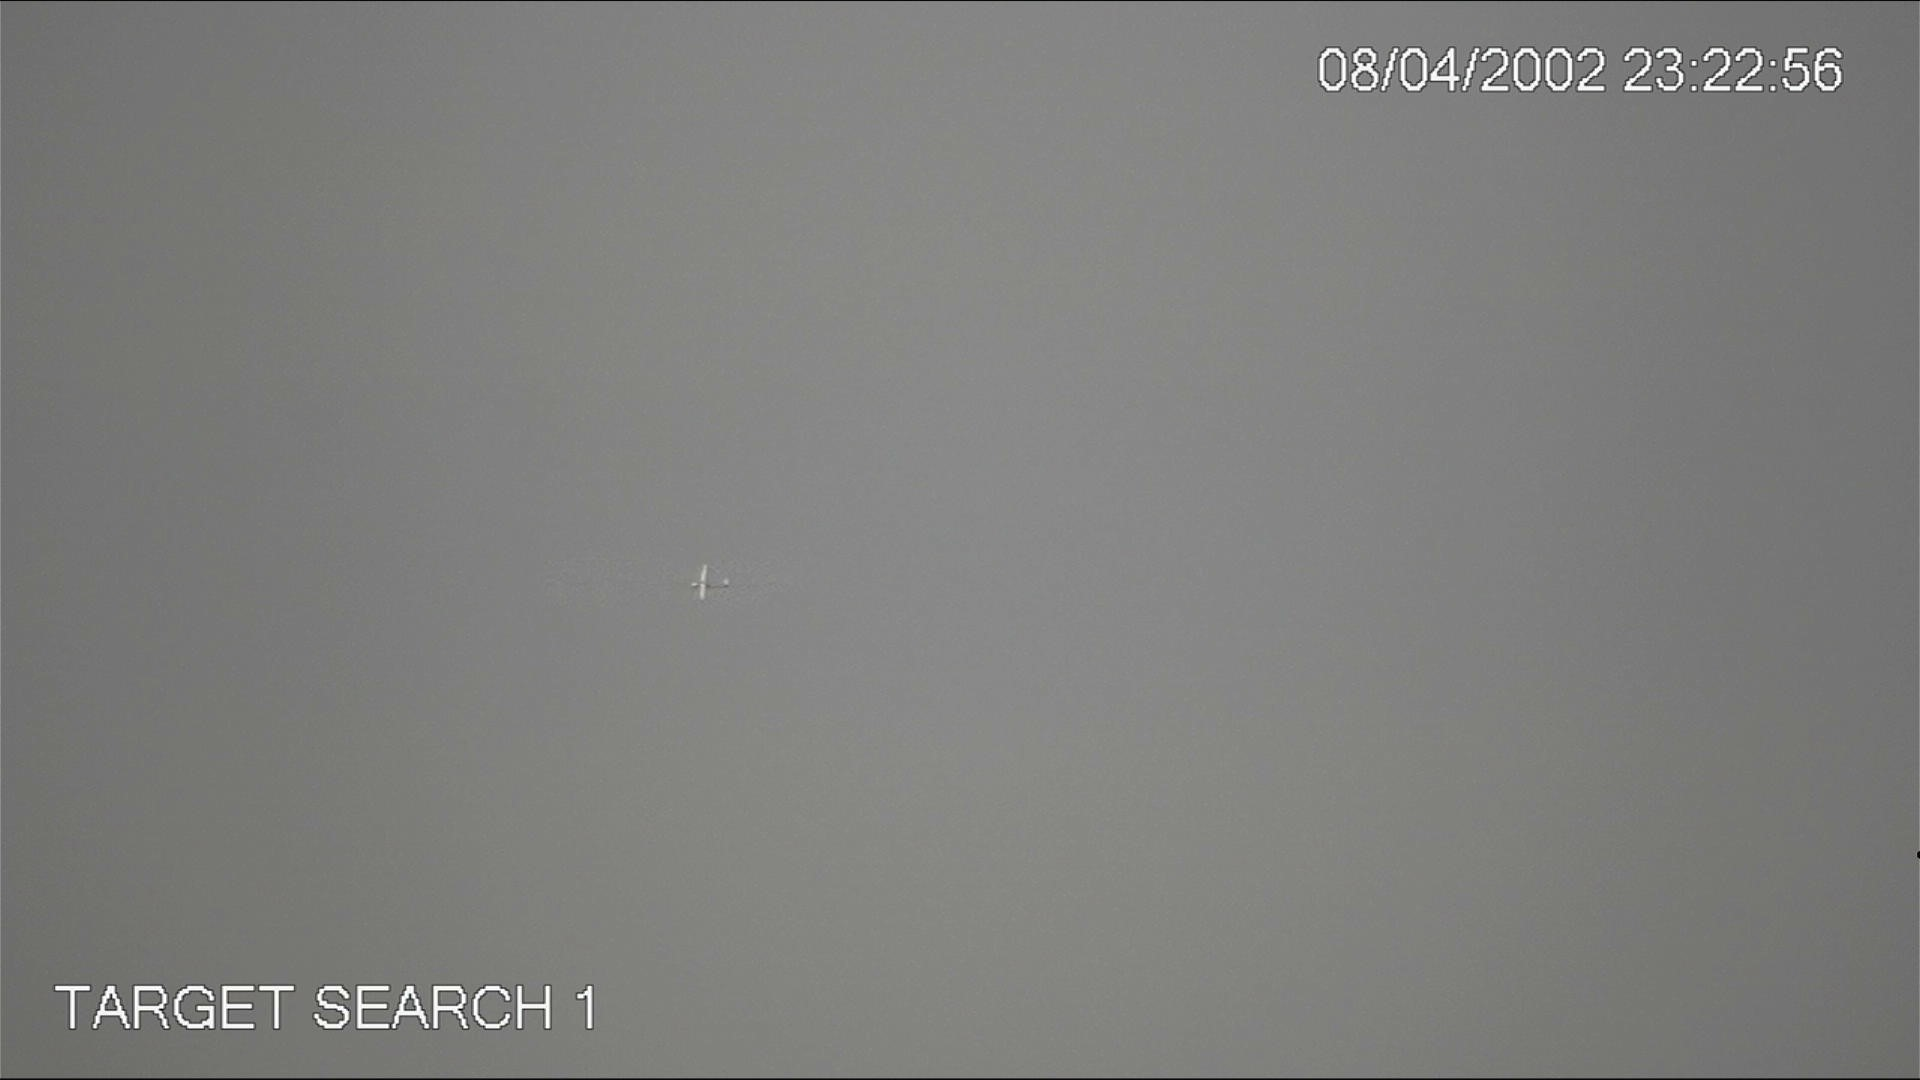SU_30: (686, 564, 735, 607)
